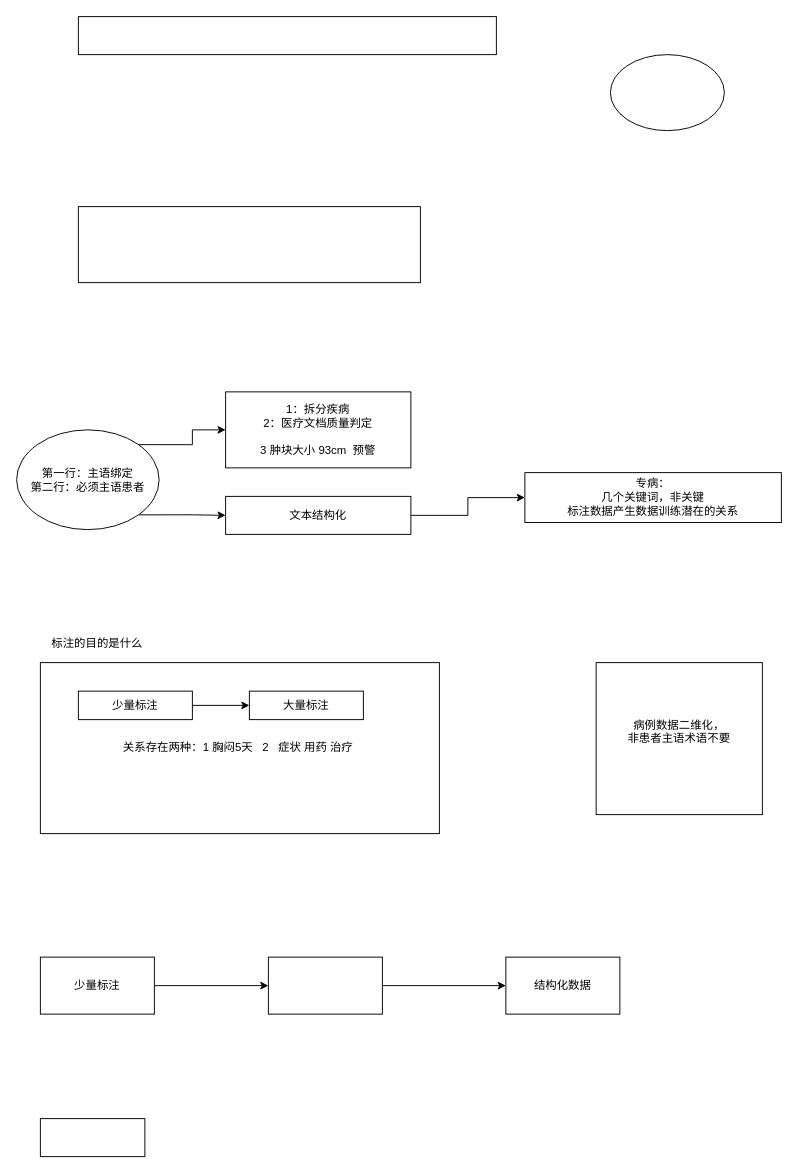
Some shapes in this 798 by 1173 pixel diagram are drawn without their labels. Here are the shapes that lost their labels. From the top down, the box of each, then its label:
(77, 16, 496, 55): 分成两块：知识库（术语） + 个人数据结构化（第二行）
(609, 54, 724, 131): 重要性？
(77, 206, 420, 283): 在第一行：一个用了某个药，血压升高 | 药 颗粒状 标注关系 第二行：这个人 主语为患者 症状是呕吐 临床表现 血压升高
(267, 956, 382, 1014): 最好的模型
(39, 1118, 145, 1157): 二次拆分？
